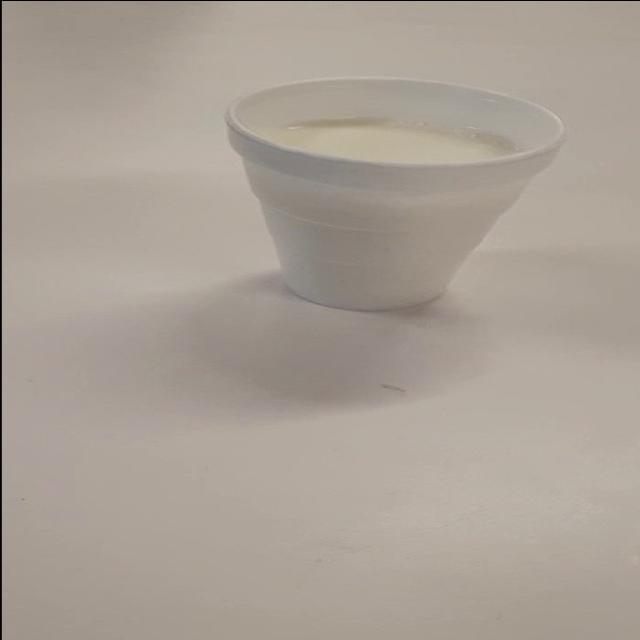Milk: (177, 74, 589, 326)
